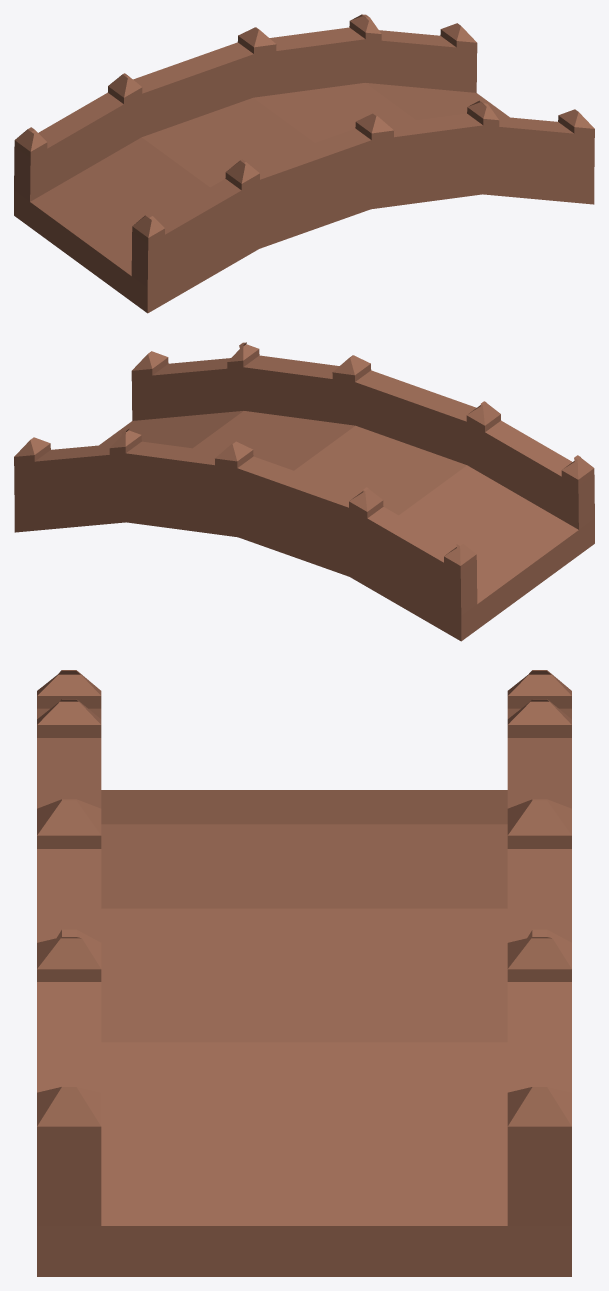
Rendered from bridge.fbx.
The picture shows the model from 3 angles, top to bottom: view 1: azimuth 30°, elevation 25°; view 2: azimuth 150°, elevation 25°; view 3: azimuth 270°, elevation 25°; orthographic projection. The views are drawn at different scales.
Visible parts, largest first — view 1: Cube; view 2: Cube; view 3: Cube.
Boxes of the visible parts, x1,y1,x2,y2 form: Cube: (14, 14, 594, 313); Cube: (14, 342, 594, 641); Cube: (37, 670, 571, 1276).
Size of the model in its own units: 801 by 232 by 415.
